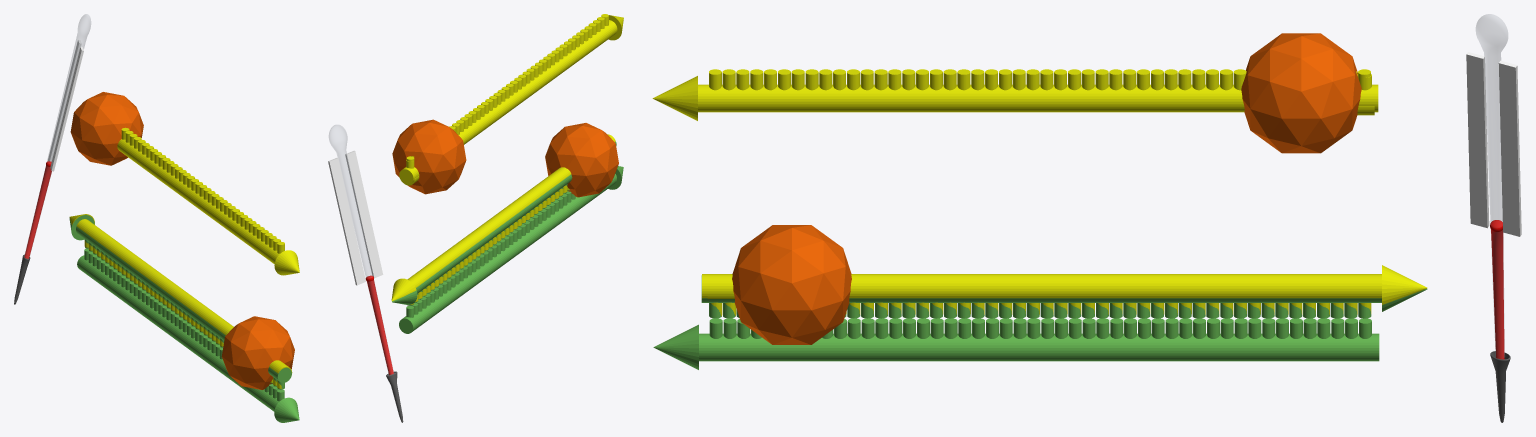
File: PCR-animation.glb
The picture shows the model from 3 angles, left to right: view 1: azimuth 30°, elevation 25°; view 2: azimuth 150°, elevation 25°; view 3: azimuth 270°, elevation 25°; orthographic projection. The views are drawn at different scales.
Parts seen in each view (by area): view 1: Cone, Cylinder.045, Icosphere, Icosphere.001, Cone.003, Cylinder.001, Sphere, Plane.000, Sphere.002, Plane.001, Sphere.001; view 2: Cylinder.045, Cone, Cone.003, Icosphere.001, Icosphere, Sphere, Cylinder.001, Plane.001, Plane.000, Sphere.002, Sphere.001; view 3: Cylinder.045, Cone, Cone.003, Icosphere.001, Icosphere, Cylinder.001, Sphere, Plane.000, Plane.001, Sphere.002.
Part boxes in pixels (x1,y1,x2,y2): Cone: (117, 127, 299, 275); Cylinder.045: (77, 248, 299, 422); Icosphere: (221, 316, 294, 389); Icosphere.001: (70, 92, 143, 165); Cone.003: (69, 214, 292, 388); Cylinder.001: (69, 215, 291, 389); Sphere: (24, 14, 90, 257); Plane.000: (50, 47, 83, 171); Sphere.002: (24, 161, 51, 258); Plane.001: (48, 39, 81, 161); Sphere.001: (14, 254, 30, 304); Cylinder.045: (399, 166, 623, 333); Cone: (399, 14, 623, 184); Cone.003: (391, 134, 615, 304); Icosphere.001: (392, 119, 466, 194); Icosphere: (545, 123, 618, 197); Sphere: (329, 125, 393, 374); Cylinder.001: (392, 141, 616, 305); Plane.001: (328, 158, 365, 285); Plane.000: (345, 150, 383, 278); Sphere.002: (365, 275, 393, 375); Sphere.001: (386, 371, 403, 422); Cylinder.045: (653, 318, 1379, 369); Cone: (652, 69, 1378, 120); Cone.003: (702, 265, 1427, 314); Icosphere.001: (1241, 33, 1361, 153); Icosphere: (732, 225, 851, 344); Cylinder.001: (701, 275, 1427, 318); Sphere: (1476, 14, 1507, 358); Plane.000: (1466, 52, 1489, 228); Plane.001: (1498, 60, 1521, 236); Sphere.002: (1490, 220, 1504, 359).
Size of what is drawn, in the model's own units: 10.4 by 37.13 by 62.95.
